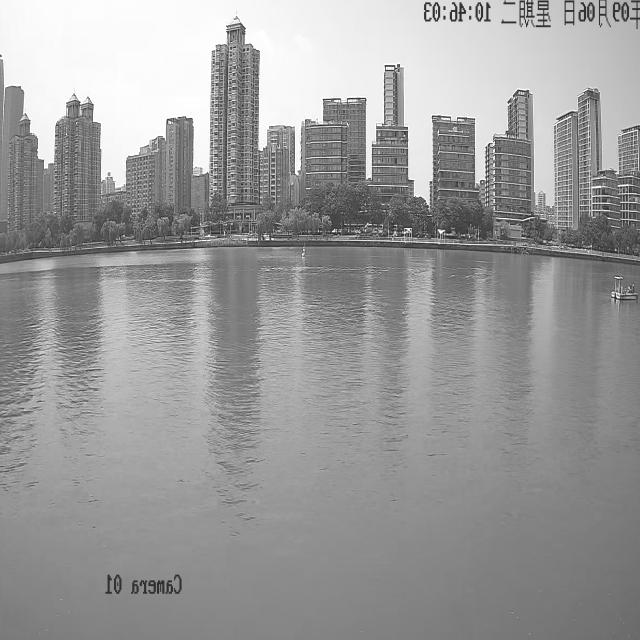ship: (611, 274, 639, 300)
